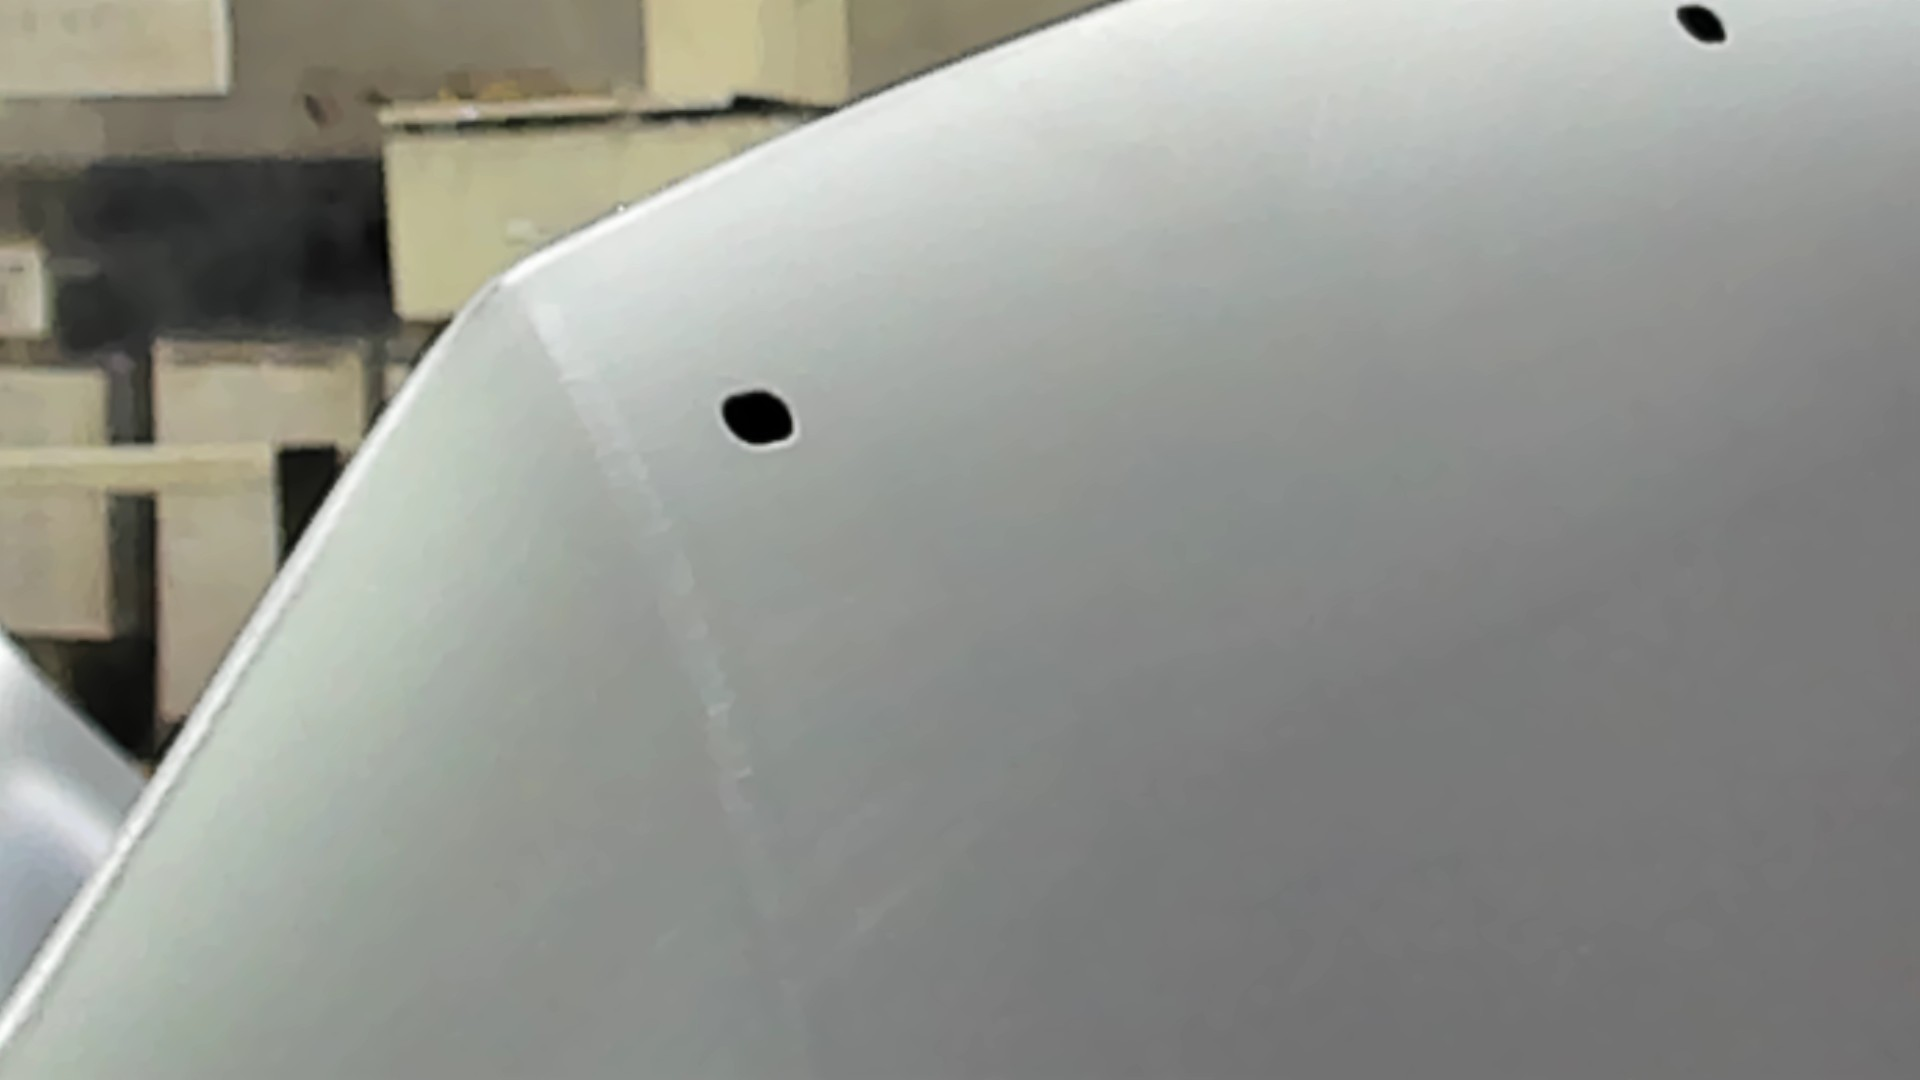amorfo: (713, 382, 804, 454), (1668, 3, 1731, 47)
capo: (880, 133, 1920, 1080)
